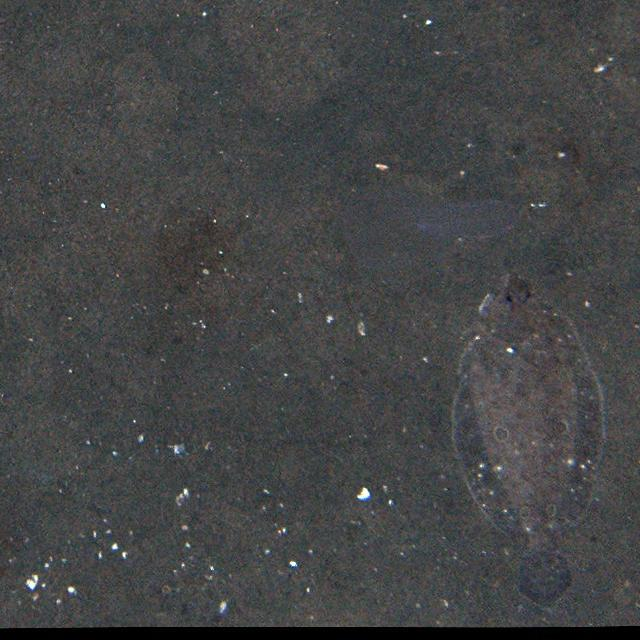flatfish: (455, 268, 610, 608)
